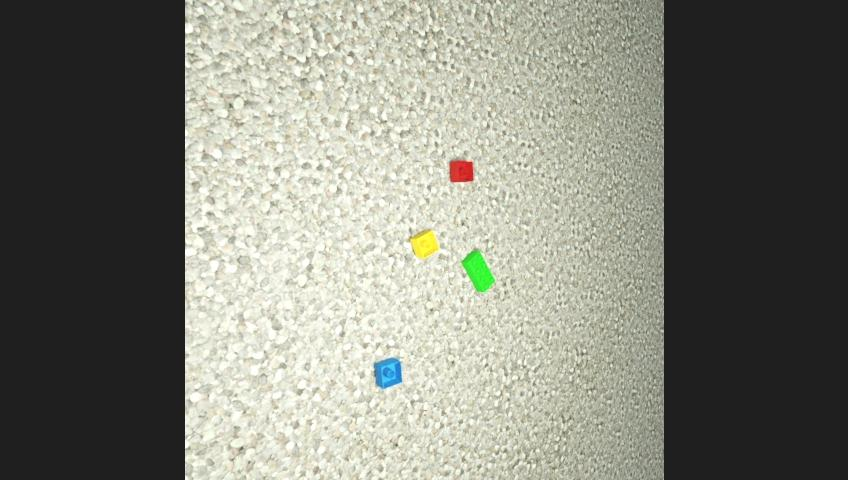2x2_blue: (375, 357, 403, 388)
2x2_red: (449, 160, 473, 181)
2x2_yellow: (409, 231, 439, 258)
4x2_green: (461, 250, 496, 291)
